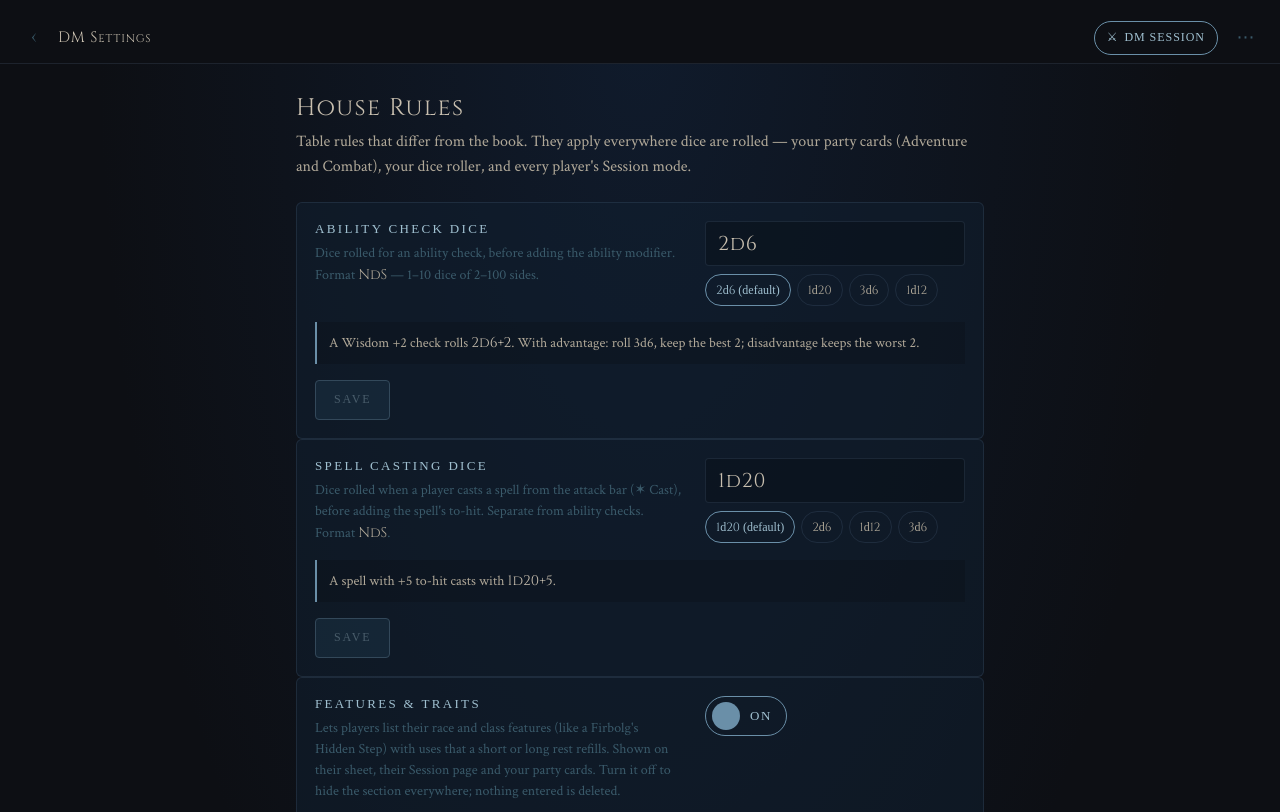
Test: DmSettingsPage › loads the current ability-check dice and saves a change
Expected: the button "Save" below "A Wisdom +2 check rolls" is disabled, [315, 380, 390, 420]
Step 1. Type "1D20" into the field showing "2d6" → (835, 243), box [705, 221, 965, 266]
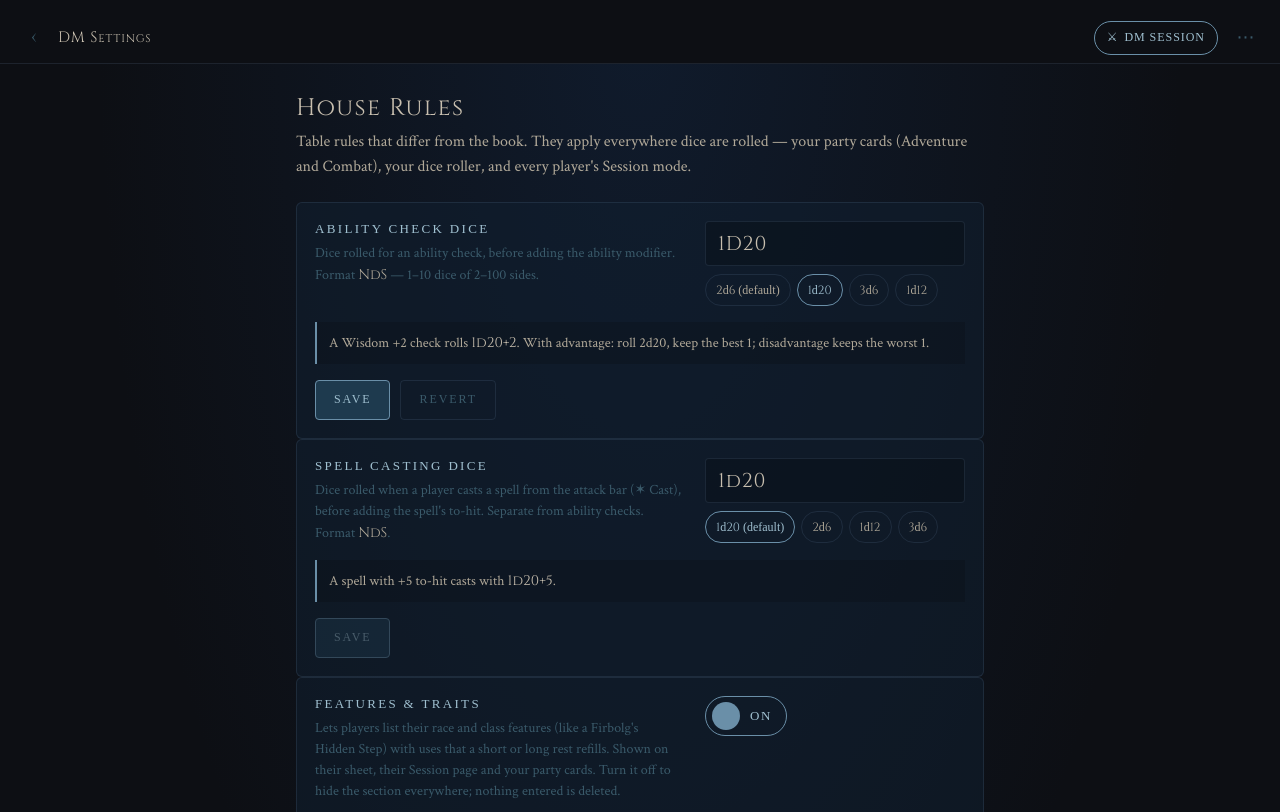
Result: the text "1d20+2" is shown at [471, 333, 517, 352]
Step 2. Click the button "Save" below "A Wisdom +2 check rolls" → (353, 400), box [315, 380, 390, 420]
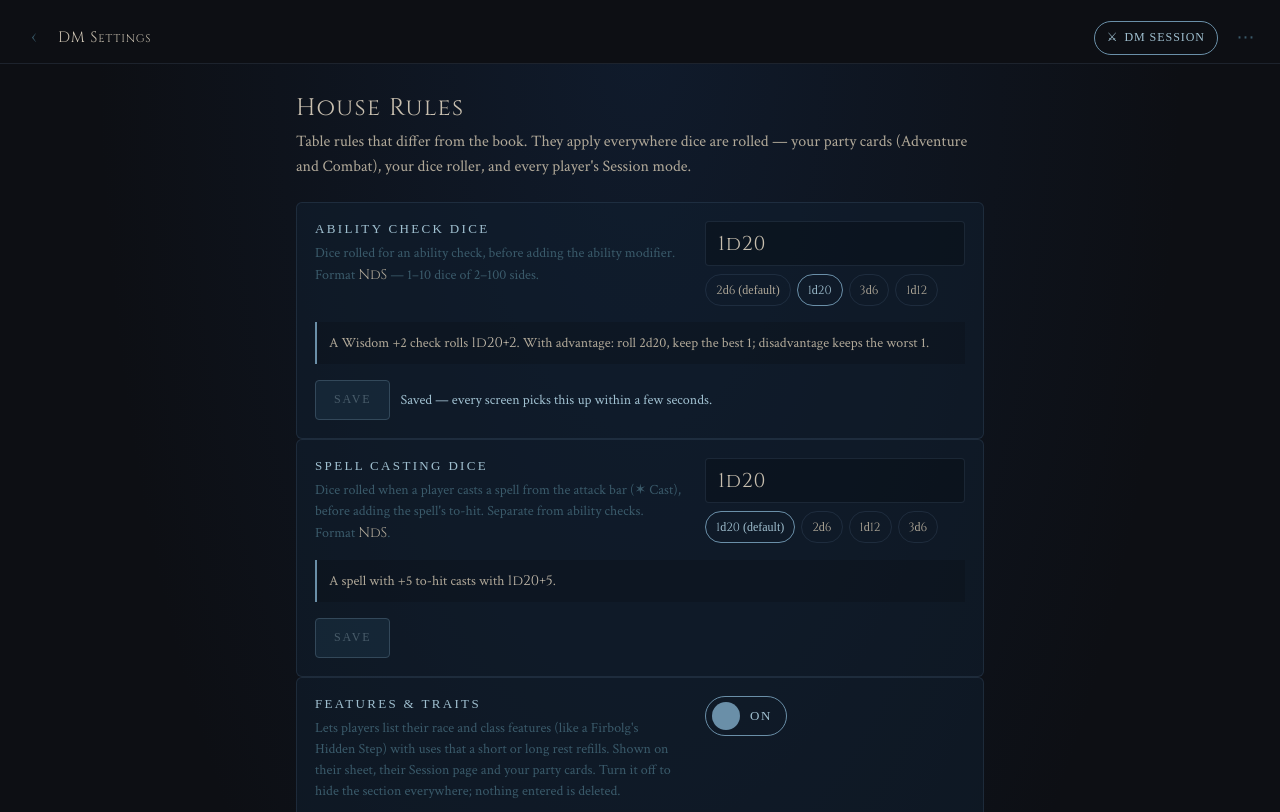
Result: the text "Saved — every screen picks this up within a few seconds." is shown at [400, 391, 712, 409]
